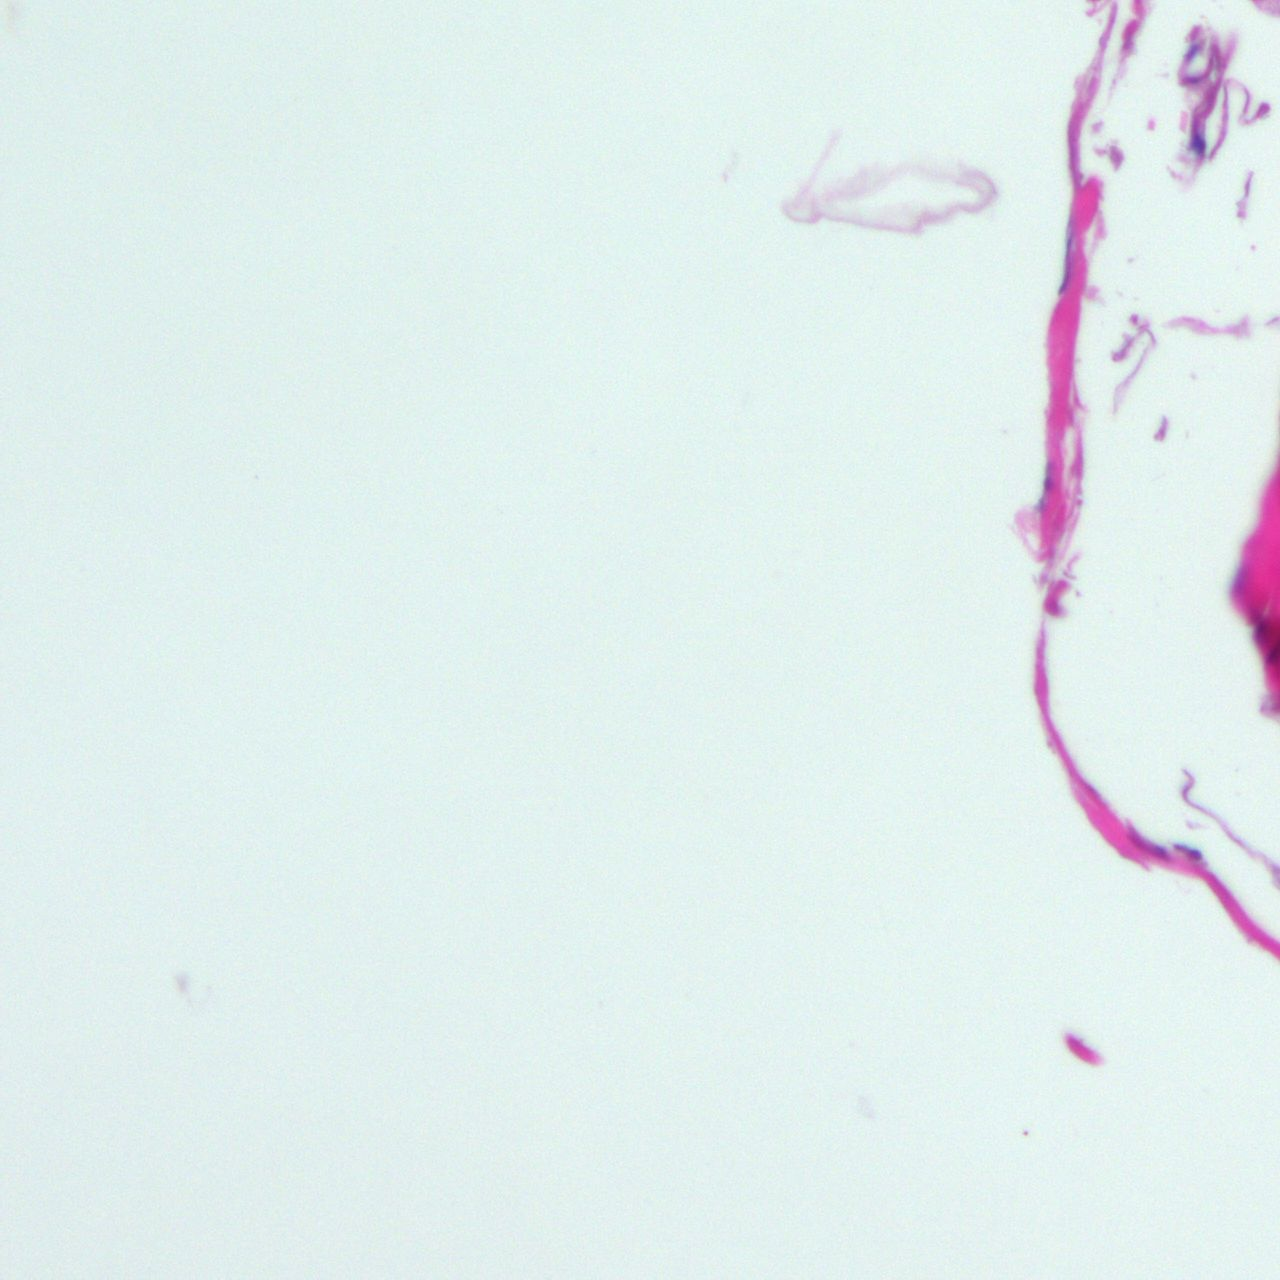nucleus-HE: (1056, 223, 1077, 297), (1189, 130, 1205, 157)
